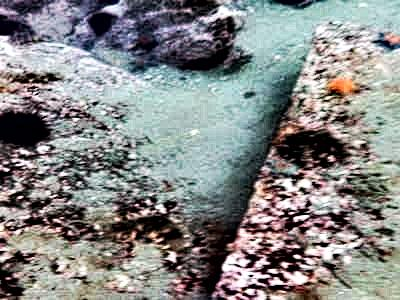urchin: (3, 107, 50, 143), (92, 13, 111, 31)
